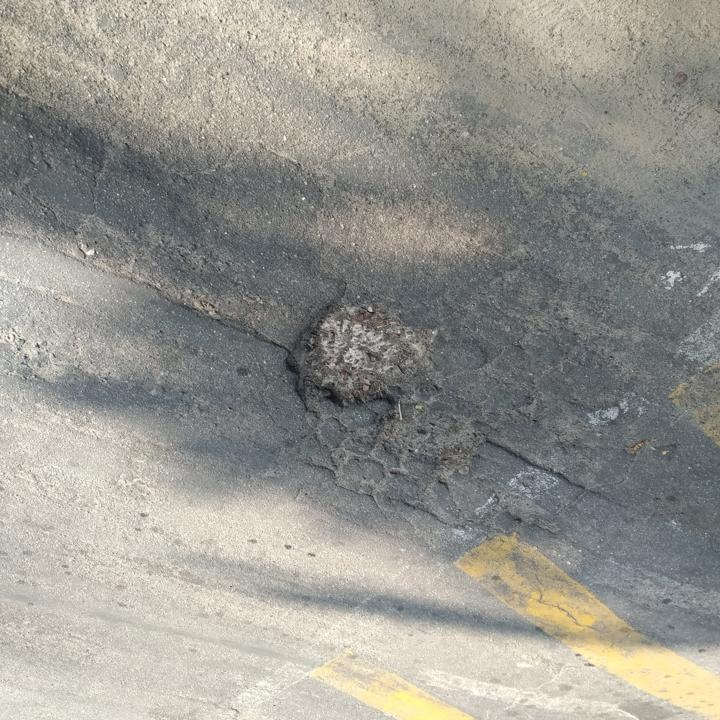pothole: (280, 295, 446, 417), (374, 407, 489, 473), (500, 492, 563, 537)
